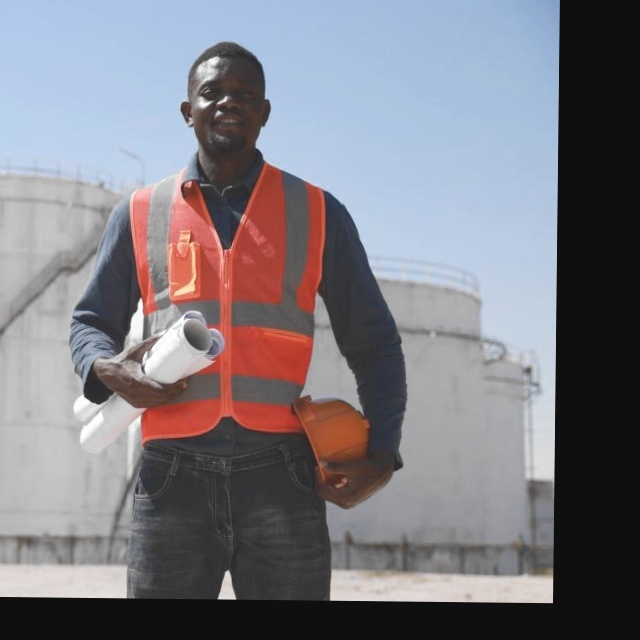Con_Chaleco: (125, 164, 329, 445)
Sin_Casco_Mascarrilla: (179, 40, 270, 167)
